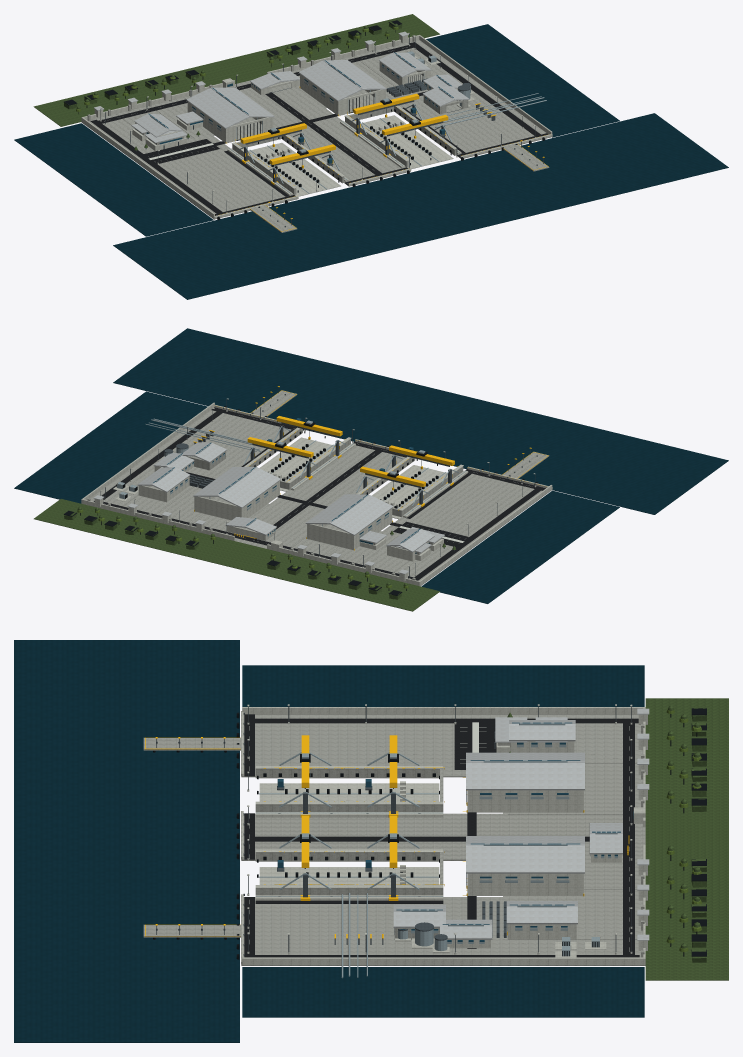
Rendered from NavalShipyard_Blockout.fbx.
The picture shows the model from 3 angles, top to bottom: view 1: azimuth 30°, elevation 25°; view 2: azimuth 150°, elevation 25°; view 3: azimuth 270°, elevation 25°; orthographic projection. The views are drawn at different scales.
Parts seen in each view (by area): view 1: Environment__HarborWater__Sea_South, Environment__HarborWater__Sea_West, Environment__HarborWater__Sea_East, Environment__LandEdge__Coastal_Terrace, Ground__ConcreteBase__WestApron, Ground__ConcreteBase__EastApron, Ground__ConcreteBase__CentralApron, Dock__DryDock_East__BasinFloor, Dock__DryDock_West__BasinFloor, MainBuilding__MainHangar_West__RoofSlope_West, MainBuilding__MainHangar_East__RoofSlope_West, Road__WestServiceRoad__Asphalt (+19 smaller); view 2: Environment__HarborWater__Sea_South, Environment__LandEdge__Coastal_Terrace, Environment__HarborWater__Sea_West, Environment__HarborWater__Sea_East, Ground__ConcreteBase__WestApron, Ground__ConcreteBase__EastApron, Ground__ConcreteBase__CentralApron, MainBuilding__MainHangar_West__RoofSlope_West, Dock__DryDock_East__BasinFloor, MainBuilding__MainHangar_East__RoofSlope_West, Dock__DryDock_West__BasinFloor, Ground__ConcreteBase__NorthSlab_04 (+23 smaller); view 3: Environment__HarborWater__Sea_South, Environment__HarborWater__Sea_East, Environment__LandEdge__Coastal_Terrace, Environment__HarborWater__Sea_West, Ground__ConcreteBase__WestApron, Ground__ConcreteBase__EastApron, Ground__ConcreteBase__CentralApron, MainBuilding__MainHangar_West__RoofSlope_East, MainBuilding__MainHangar_East__RoofSlope_East, Security__EastPerimeter__Wall_Run, Security__WestPerimeter__Wall_Run, Dock__DryDock_West__BasinFloor (+37 smaller).
Part boxes in pixels (x1=…): Environment__HarborWater__Sea_South: x1=113, y1=113, x2=728, y2=299; Environment__HarborWater__Sea_West: x1=14, y1=123, x2=213, y2=236; Environment__HarborWater__Sea_East: x1=426, y1=24, x2=619, y2=137; Environment__LandEdge__Coastal_Terrace: x1=33, y1=14, x2=439, y2=126; Ground__ConcreteBase__WestApron: x1=126, y1=135, x2=293, y2=218; Ground__ConcreteBase__EastApron: x1=385, y1=73, x2=546, y2=158; Ground__ConcreteBase__CentralApron: x1=273, y1=108, x2=405, y2=186; Dock__DryDock_East__BasinFloor: x1=361, y1=115, x2=453, y2=168; Dock__DryDock_West__BasinFloor: x1=249, y1=142, x2=340, y2=196; MainBuilding__MainHangar_West__RoofSlope_West: x1=186, y1=87, x2=250, y2=128; MainBuilding__MainHangar_East__RoofSlope_West: x1=299, y1=60, x2=362, y2=101; Road__WestServiceRoad__Asphalt: x1=90, y1=119, x2=224, y2=214; Environment__HarborWater__Sea_South: x1=113, y1=328, x2=728, y2=514; Environment__LandEdge__Coastal_Terrace: x1=34, y1=499, x2=439, y2=611; Environment__HarborWater__Sea_West: x1=421, y1=490, x2=619, y2=603; Environment__HarborWater__Sea_East: x1=14, y1=391, x2=207, y2=503; Ground__ConcreteBase__WestApron: x1=382, y1=473, x2=552, y2=553; Ground__ConcreteBase__EastApron: x1=130, y1=410, x2=304, y2=485; Ground__ConcreteBase__CentralApron: x1=270, y1=445, x2=405, y2=514; MainBuilding__MainHangar_West__RoofSlope_West: x1=329, y1=494, x2=393, y2=535; Dock__DryDock_East__BasinFloor: x1=259, y1=437, x2=333, y2=491; MainBuilding__MainHangar_East__RoofSlope_West: x1=217, y1=467, x2=280, y2=508; Dock__DryDock_West__BasinFloor: x1=372, y1=465, x2=446, y2=519; Ground__ConcreteBase__NorthSlab_04: x1=251, y1=511, x2=315, y2=548; Environment__HarborWater__Sea_South: x1=14, y1=640, x2=239, y2=1042; Environment__HarborWater__Sea_East: x1=242, y1=967, x2=644, y2=1017; Environment__LandEdge__Coastal_Terrace: x1=645, y1=698, x2=728, y2=980; Environment__HarborWater__Sea_West: x1=242, y1=665, x2=644, y2=706; Ground__ConcreteBase__WestApron: x1=242, y1=714, x2=502, y2=777; Ground__ConcreteBase__EastApron: x1=241, y1=897, x2=507, y2=965; Ground__ConcreteBase__CentralApron: x1=241, y1=813, x2=507, y2=860; MainBuilding__MainHangar_West__RoofSlope_East: x1=466, y1=761, x2=584, y2=790; MainBuilding__MainHangar_East__RoofSlope_East: x1=466, y1=844, x2=584, y2=873; Security__EastPerimeter__Wall_Run: x1=242, y1=957, x2=644, y2=964; Security__WestPerimeter__Wall_Run: x1=242, y1=707, x2=643, y2=714; Dock__DryDock_West__BasinFloor: x1=259, y1=783, x2=439, y2=801.
Size of the model in its own units: 80000 by 4850 by 60100.
